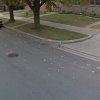Tree: (5, 2, 53, 30)
